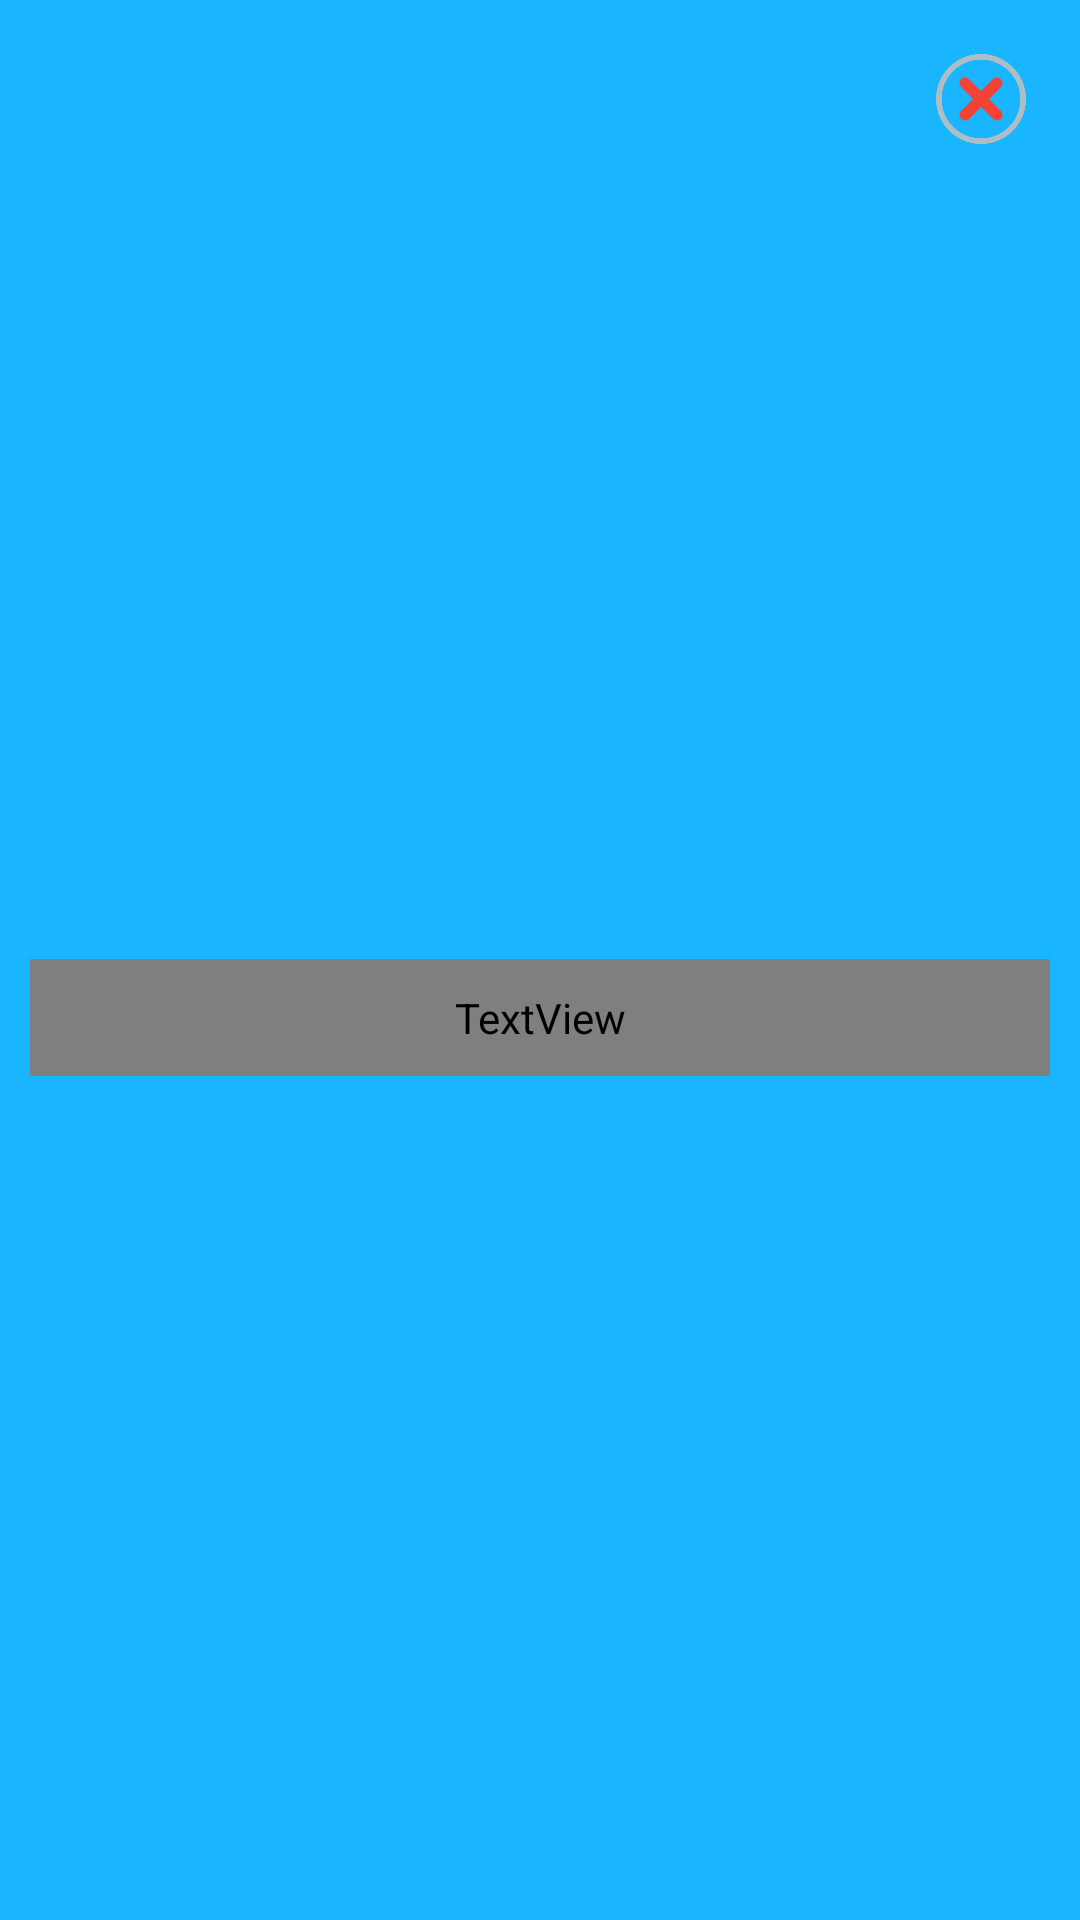

Locate icon controls on the screen. Image size 1080x1920, boxes as rect(x1, y1, x2, y2).
exit: rect(936, 54, 1026, 144)
